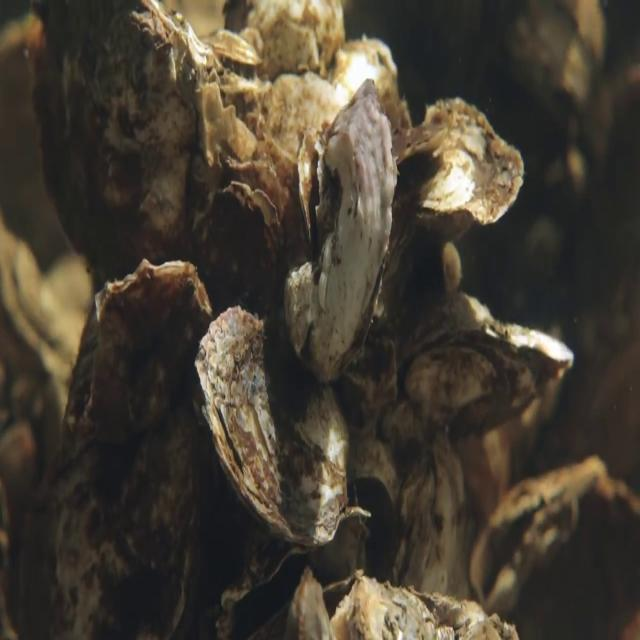Oyster-Closed: (45, 246, 223, 636), (281, 73, 399, 388), (384, 77, 551, 295), (193, 308, 346, 542), (398, 323, 576, 431)
Oyster-Indeterminate: (19, 10, 204, 284), (194, 165, 296, 310)
Oyster-Open: (471, 450, 639, 639)
